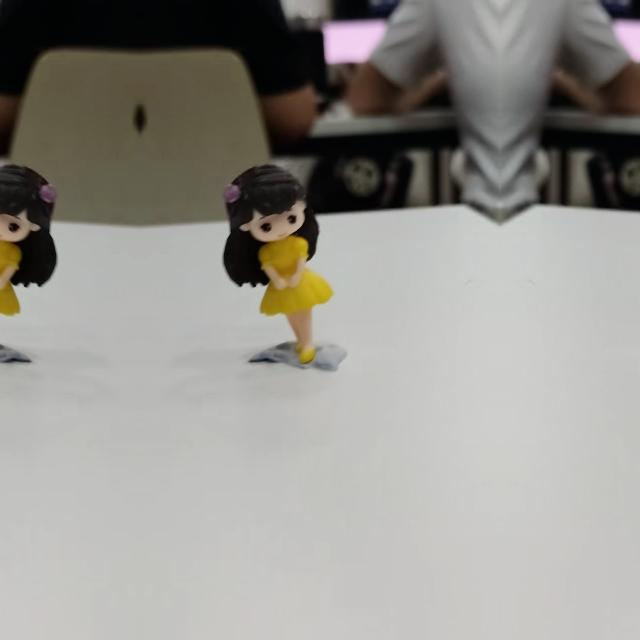woman head: (223, 164, 315, 242), (0, 163, 57, 242)
